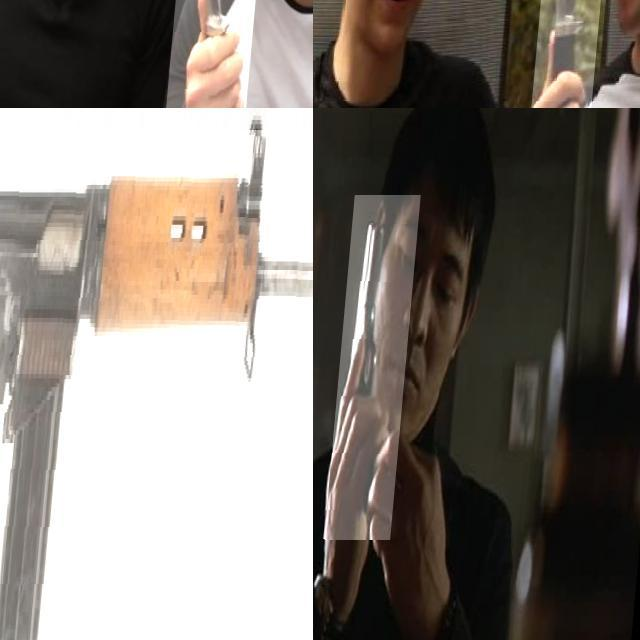-: (173, 0, 274, 108), (534, 0, 618, 108)
gun-knife-thesis - v11 Yolov5 augmented: (0, 130, 313, 640), (334, 195, 424, 540)
